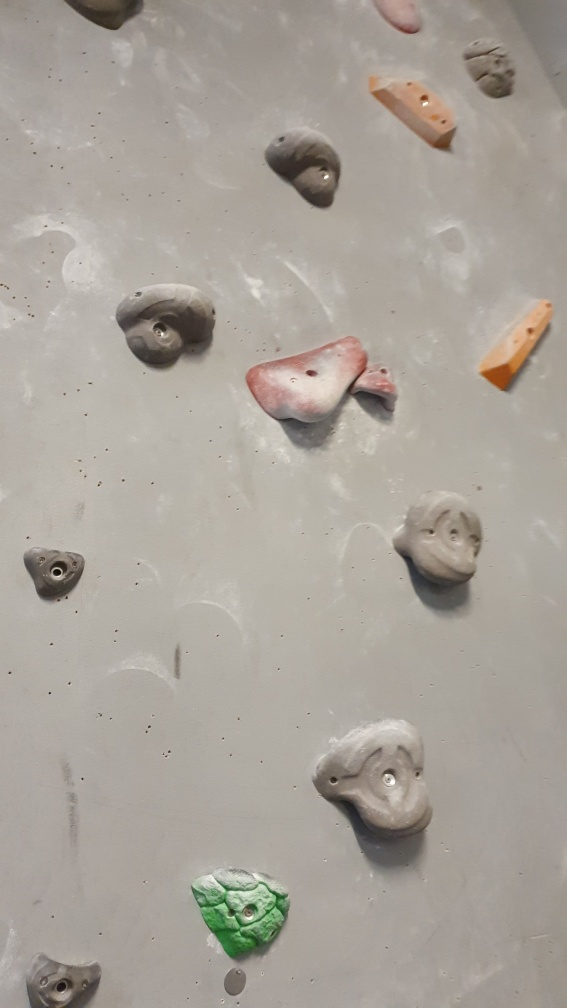Crimp: (18, 540, 89, 603)
Hand Start: (219, 964, 262, 1006)
Jug: (309, 711, 440, 842), (114, 277, 217, 374), (390, 488, 483, 595), (264, 127, 348, 214)
Pinch: (365, 72, 461, 154), (475, 296, 555, 394)
